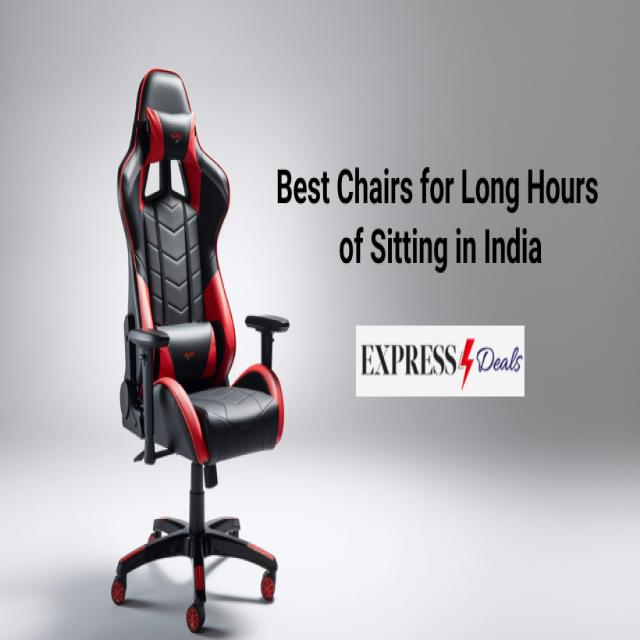chair: (110, 66, 290, 632)
